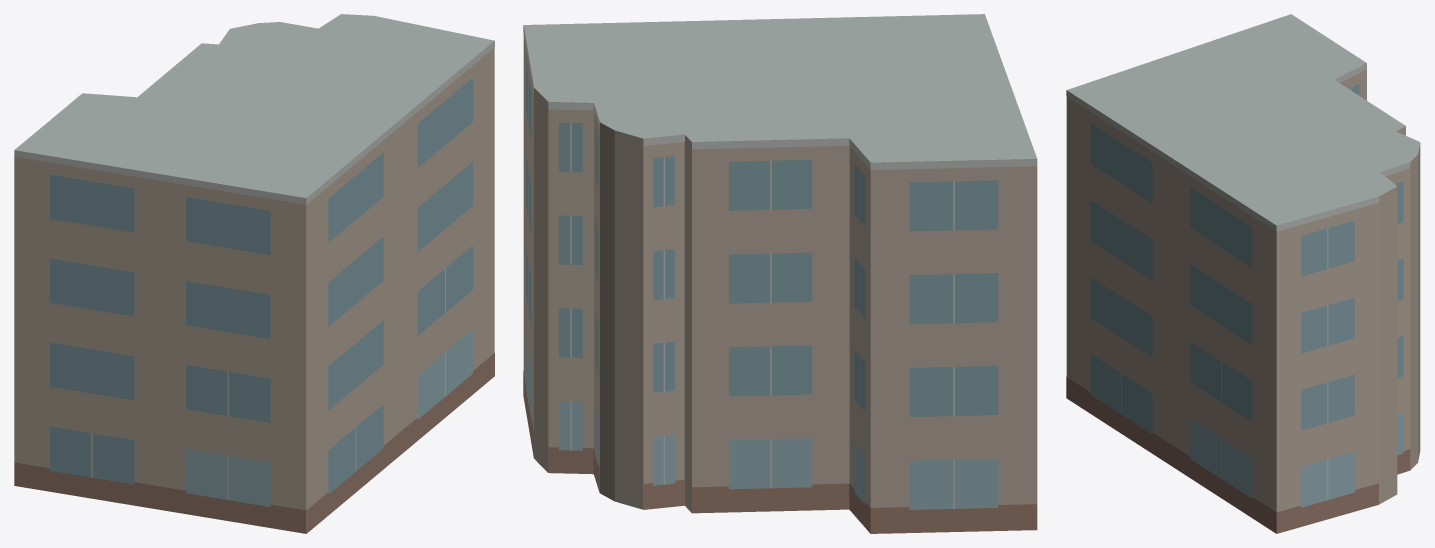
The model's file is survey-upis-32783424.glb.
3 renders of one model, left to right at view 1: azimuth 30°, elevation 25°; view 2: azimuth 150°, elevation 25°; view 3: azimuth 270°, elevation 25°, orthographic. The views are drawn at different scales.
Visible parts, largest first — view 1: survey-upis-32783424.tmp; view 2: survey-upis-32783424.tmp; view 3: survey-upis-32783424.tmp.
Part boxes in pixels (<box>): survey-upis-32783424.tmp: <box>14,14,494,533</box>; survey-upis-32783424.tmp: <box>523,14,1037,533</box>; survey-upis-32783424.tmp: <box>1066,14,1420,533</box>.
Size of the model in its own units: 17.98 by 12.2 by 12.7.
